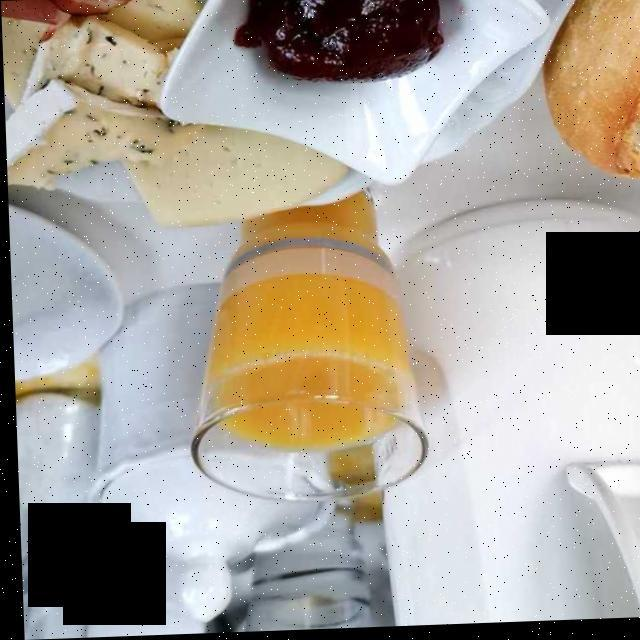cheese: (15, 18, 208, 194)
jam: (237, 0, 441, 81)
juice: (216, 206, 401, 451)
